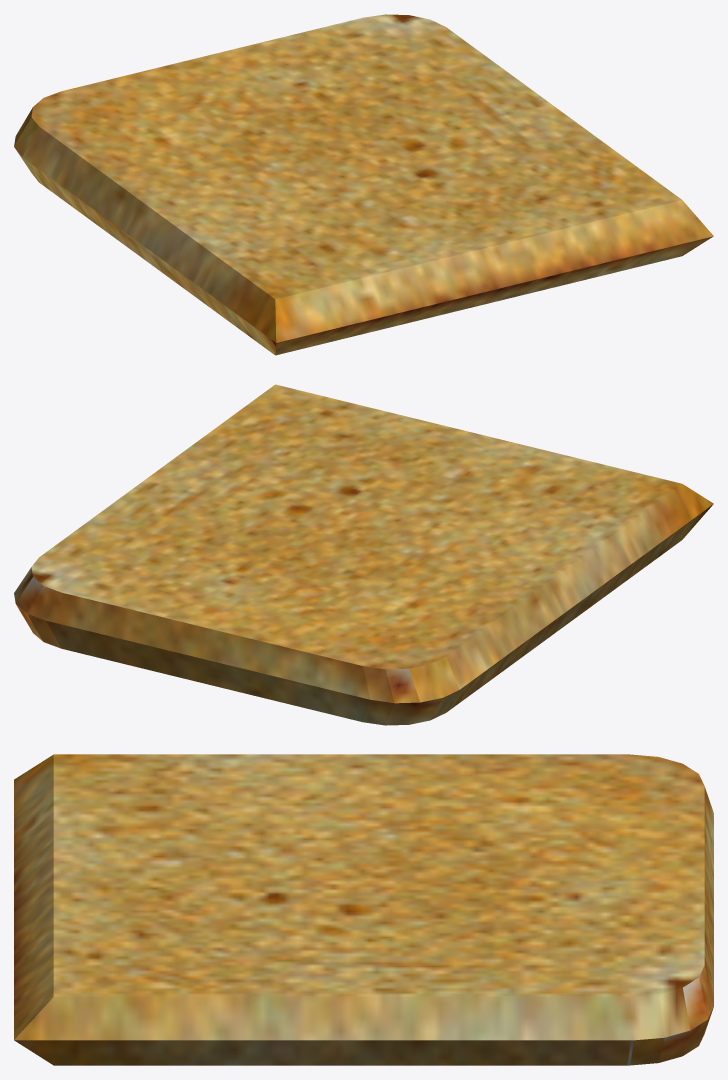
The model's file is toast.obj.
The picture shows the model from 3 angles, top to bottom: view 1: azimuth 30°, elevation 25°; view 2: azimuth 150°, elevation 25°; view 3: azimuth 270°, elevation 25°; orthographic projection. The views are drawn at different scales.
Visible parts, largest first — view 1: toast; view 2: toast; view 3: toast.
Part boxes in pixels (left/top/right/bottom): toast: left=14, top=14, right=713, bottom=355; toast: left=14, top=384, right=713, bottom=725; toast: left=14, top=754, right=713, bottom=1065.
Size of the model in its own units: 0.1552 by 0.019 by 0.1761.
